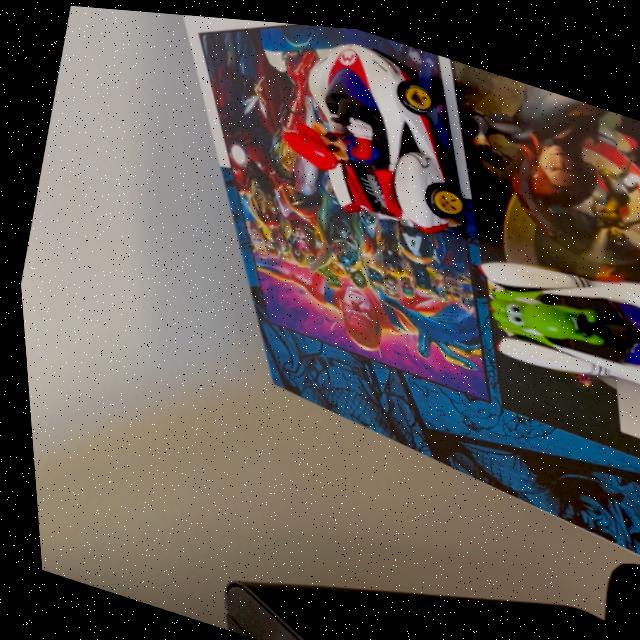mario: (249, 16, 516, 250)
yoshi: (444, 208, 640, 408)
